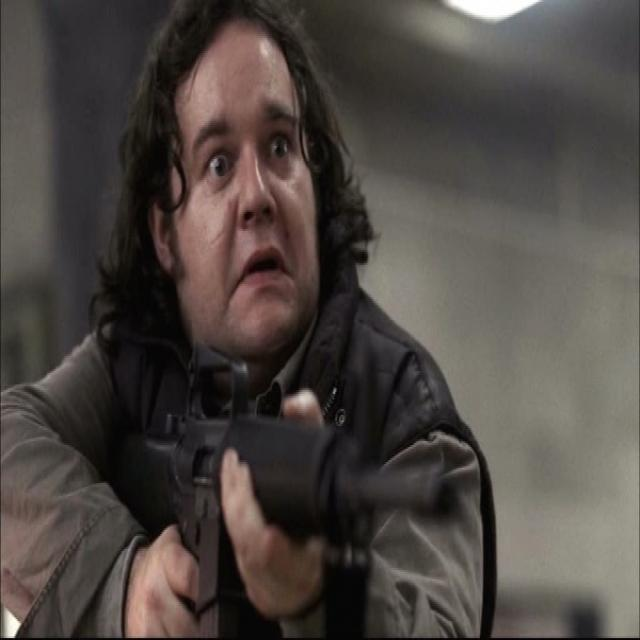rifle: (143, 337, 449, 635)
